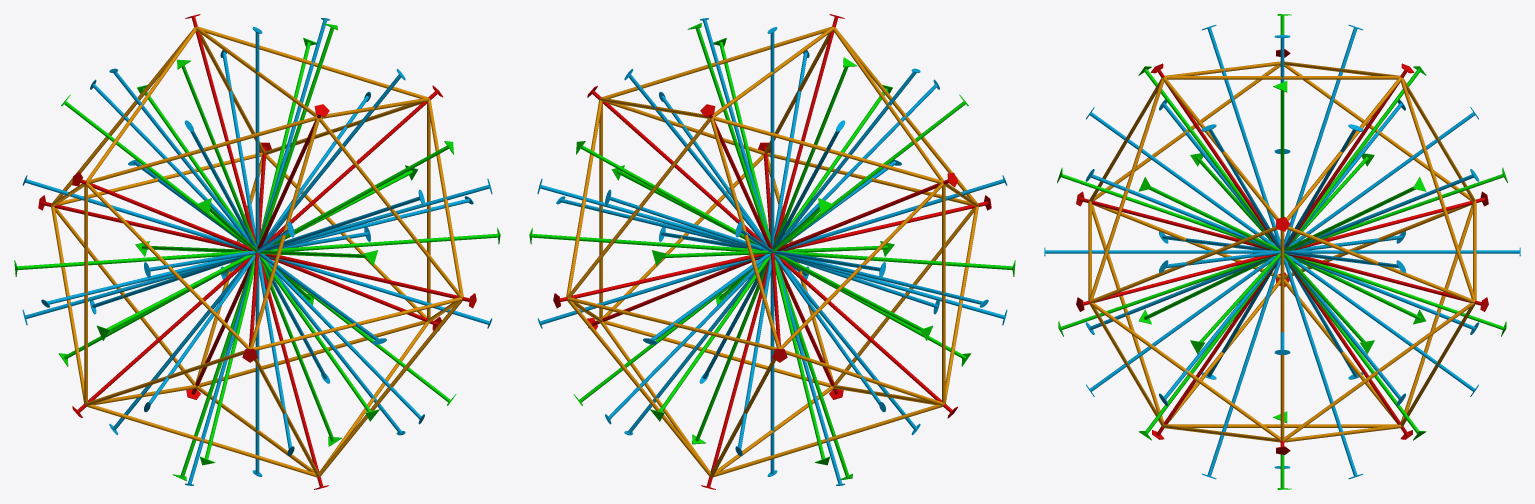
Rendered from 4RHV(1).glb.
3 views of the same model, side by side, from view 1: azimuth 30°, elevation 25°; view 2: azimuth 150°, elevation 25°; view 3: azimuth 270°, elevation 25° (orthographic). The views are drawn at different scales.
Size of the model in its own units: 383 by 383 by 383.
